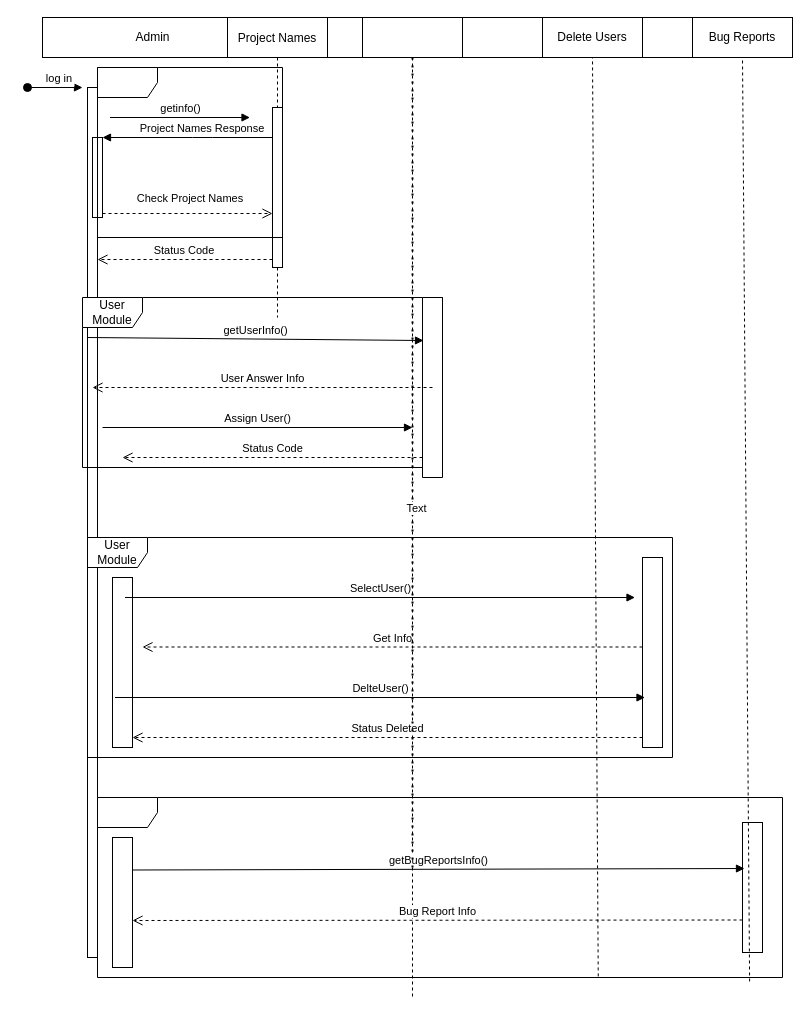
Some shapes in this 810 by 1015 pixel diagram are drawn without their labels. Each missing label, with the box of its shape:
BugReport Module: (96, 796, 782, 978)
Dashboard: (96, 66, 282, 238)
Users: (362, 16, 462, 58)
